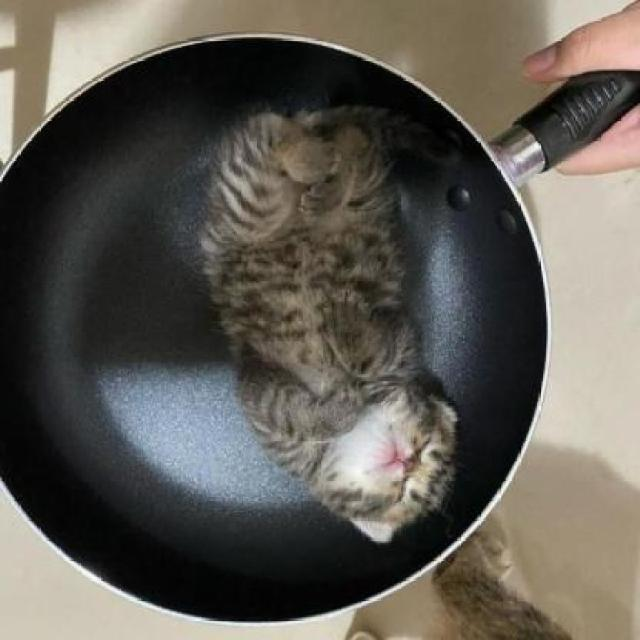cat: (195, 101, 463, 544)
